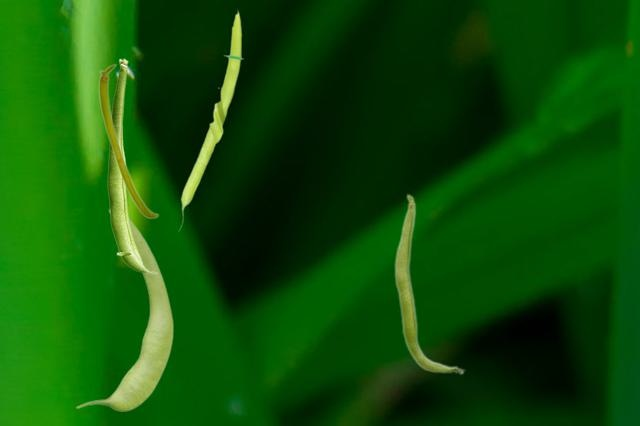french_bean: (75, 208, 173, 410), (178, 8, 243, 231), (393, 193, 464, 374), (107, 58, 158, 273), (98, 63, 158, 218)
